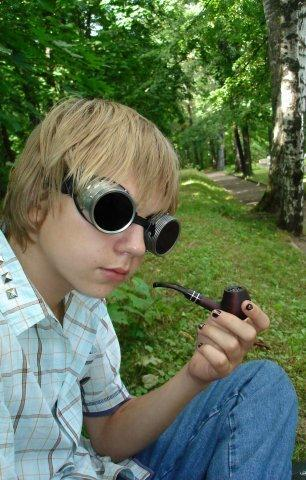trubka: (152, 281, 250, 320)
